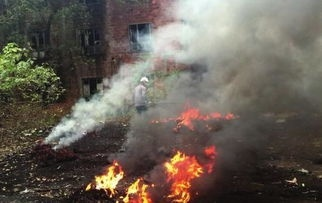fire: (83, 147, 220, 202), (153, 144, 219, 201), (83, 158, 133, 197), (161, 106, 237, 129)
